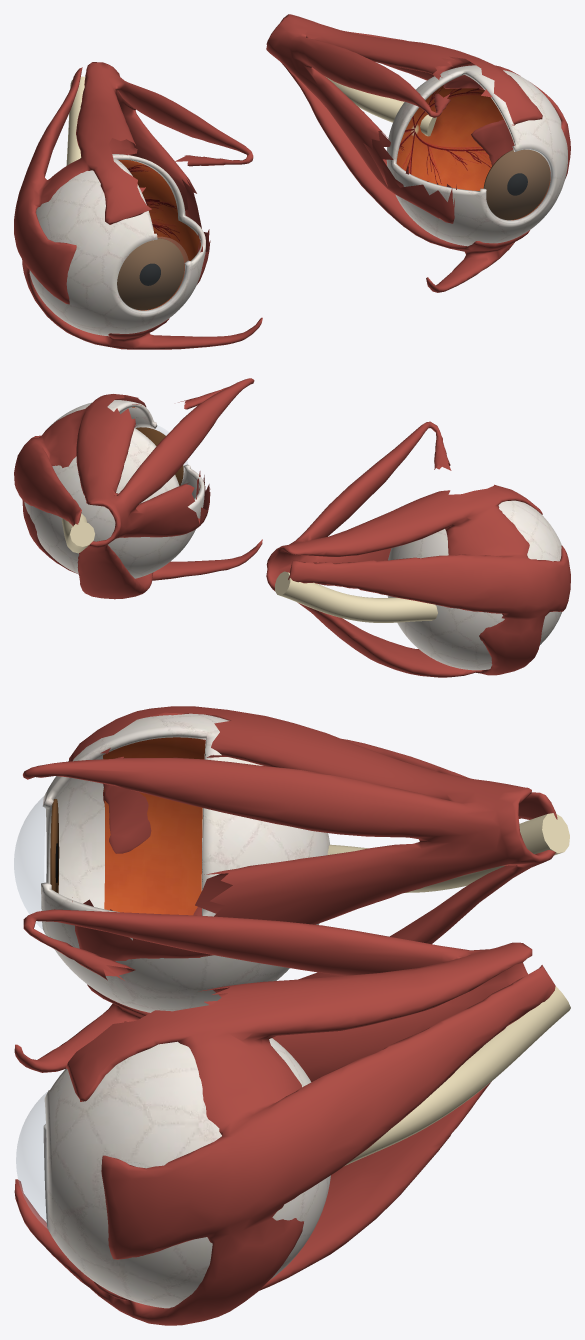
File: eyes.glb
3 views of the same model, one above another, from view 1: azimuth 30°, elevation 25°; view 2: azimuth 150°, elevation 25°; view 3: azimuth 270°, elevation 25° (orthographic). The views are drawn at different scales.
Visible parts, largest first — view 1: musculos, escleroticas, corneas, retina_izquierda, iris, retina_derecha, nervios_opticos, pupilas; view 2: musculos, escleroticas, nervios_opticos, iris; view 3: musculos, escleroticas, retina_derecha, nervios_opticos, corneas.
Boxes of the visible parts, <box> form: musculos: <box>14,14,570,349</box>; escleroticas: <box>29,65,567,336</box>; corneas: <box>117,149,553,313</box>; retina_izquierda: <box>396,85,550,220</box>; iris: <box>117,149,550,310</box>; retina_derecha: <box>118,160,200,310</box>; nervios_opticos: <box>66,76,436,165</box>; pupilas: <box>139,173,527,285</box>; musculos: <box>14,378,570,677</box>; escleroticas: <box>24,400,561,670</box>; nervios_opticos: <box>62,513,437,622</box>; iris: <box>135,427,183,485</box>; musculos: <box>14,706,557,1325</box>; escleroticas: <box>41,713,330,1308</box>; retina_derecha: <box>103,737,205,915</box>; nervios_opticos: <box>327,813,570,1165</box>; corneas: <box>14,796,47,1228</box>.
Size of the model in its own units: 0.0868 by 0.0313 by 0.0476.
Materials: 8 (3 with a texture image).
